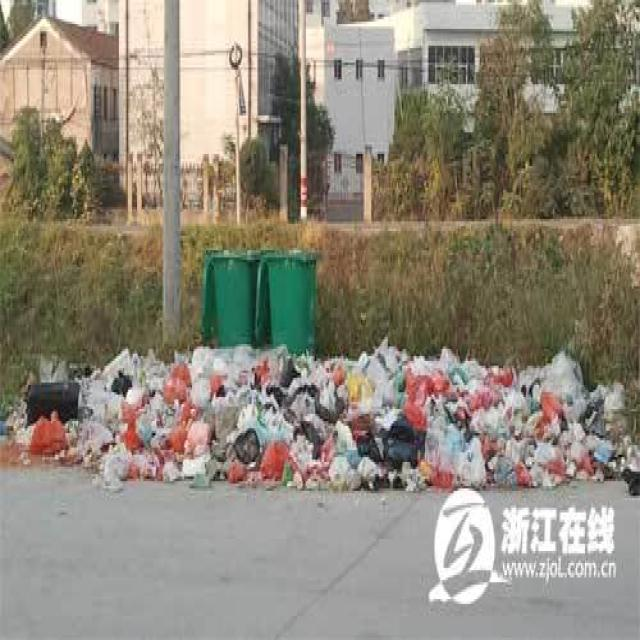garbage: (1, 342, 639, 496)
garbage_bin: (256, 248, 317, 349), (202, 246, 256, 340)
